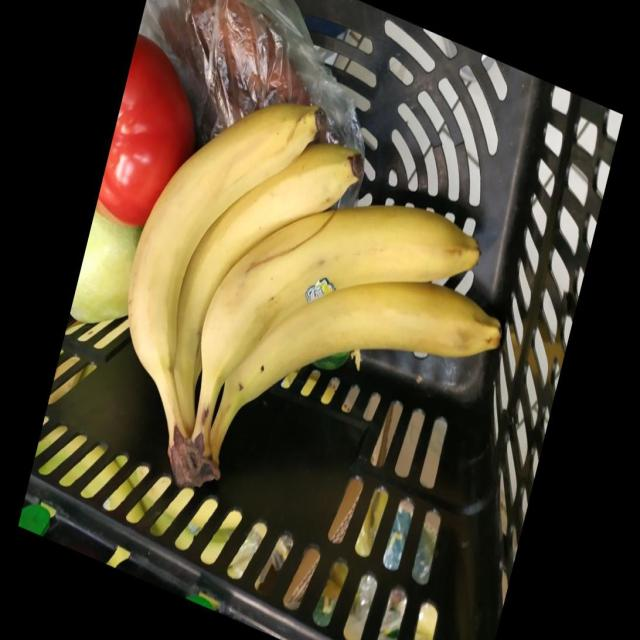Apple: (69, 210, 142, 323)
Banana: (192, 205, 479, 438), (128, 102, 319, 450), (172, 142, 362, 432), (208, 282, 500, 462)
Tomatoes: (94, 34, 193, 225)
